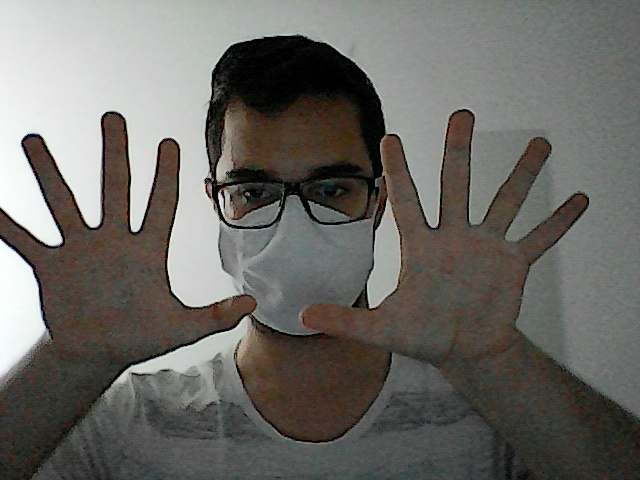jump: (295, 102, 604, 362), (1, 105, 263, 365)
